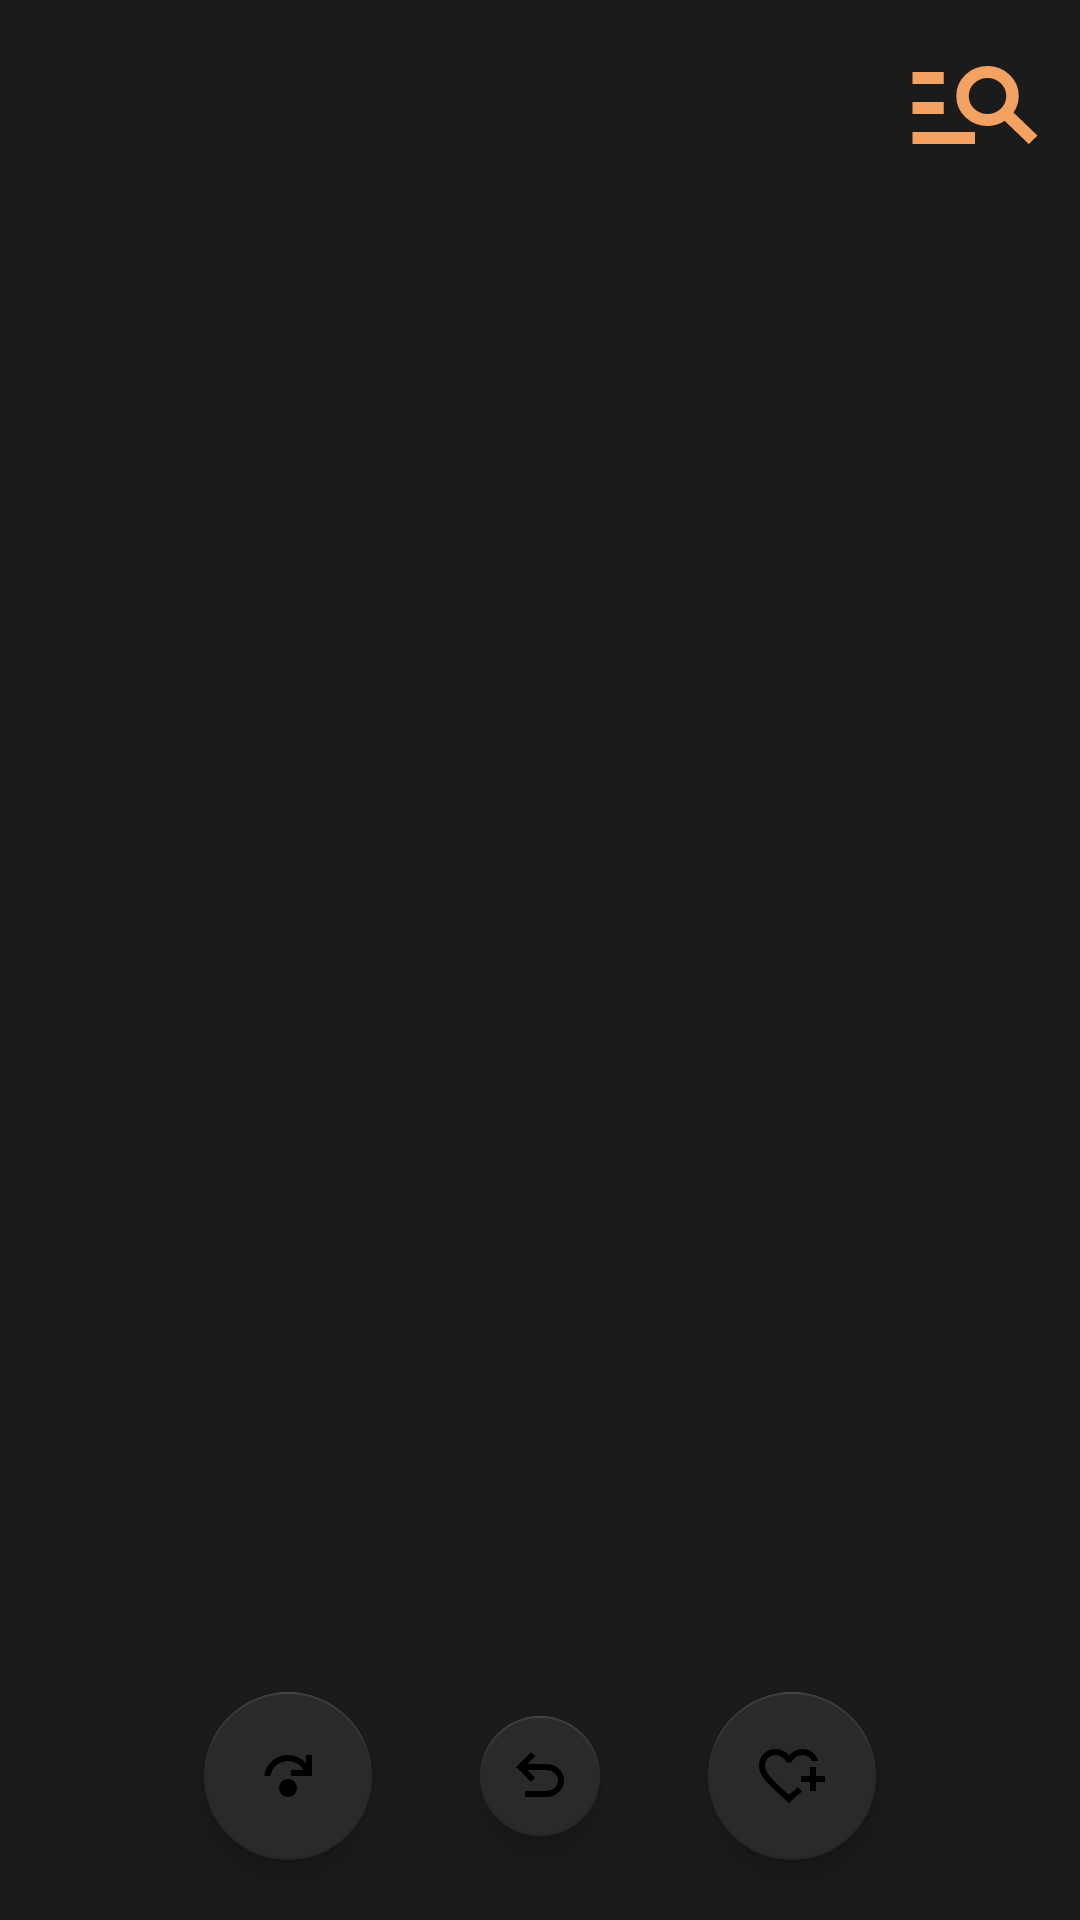

Screen size 1080 × 1920. Icon name, then its center in pixels as [x,y]:
heart plus: [792,1776]
manage search: [975,105]
step over: [288,1776]
undo: [540,1776]
